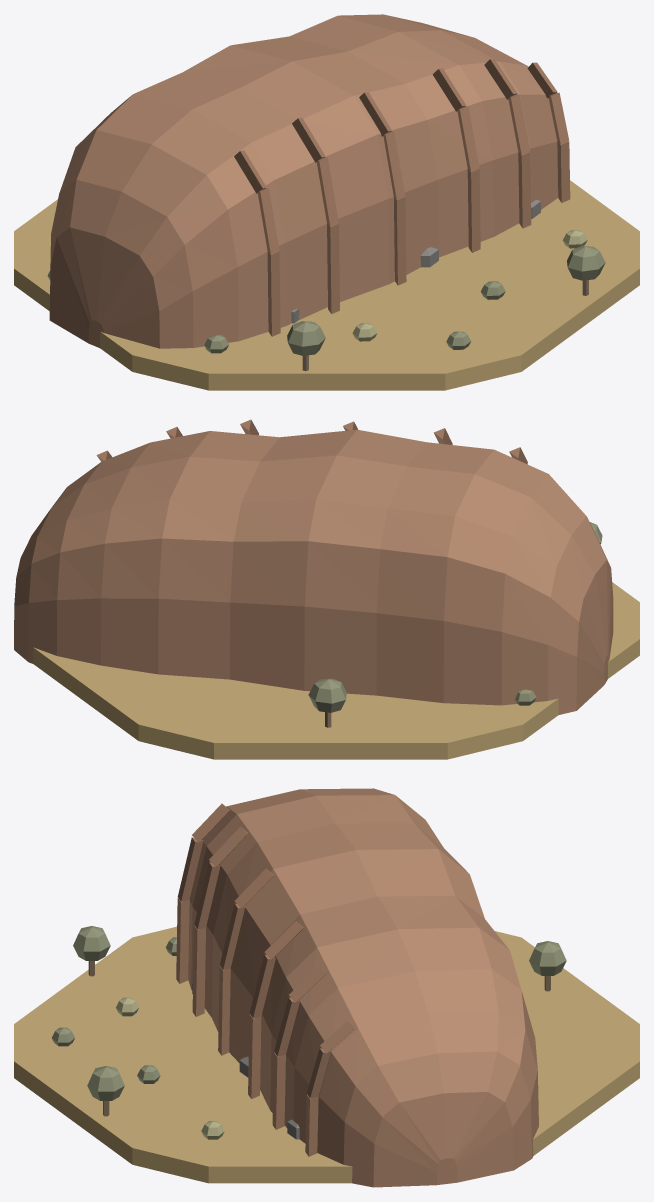
Rendered from uluru.glb.
The picture shows the model from 3 angles, top to bottom: view 1: azimuth 30°, elevation 25°; view 2: azimuth 150°, elevation 25°; view 3: azimuth 270°, elevation 25°; orthographic projection.
Parts seen in each view (by area): view 1: LOD0; view 2: LOD0; view 3: LOD0.
Boxes of the visible parts, x1,y1,x2,y2 form: LOD0: (14, 14, 639, 390); LOD0: (14, 419, 639, 759); LOD0: (14, 788, 639, 1187).
Size of what is drawn, in the model's own units: 1.7 by 0.6189 by 1.76.
